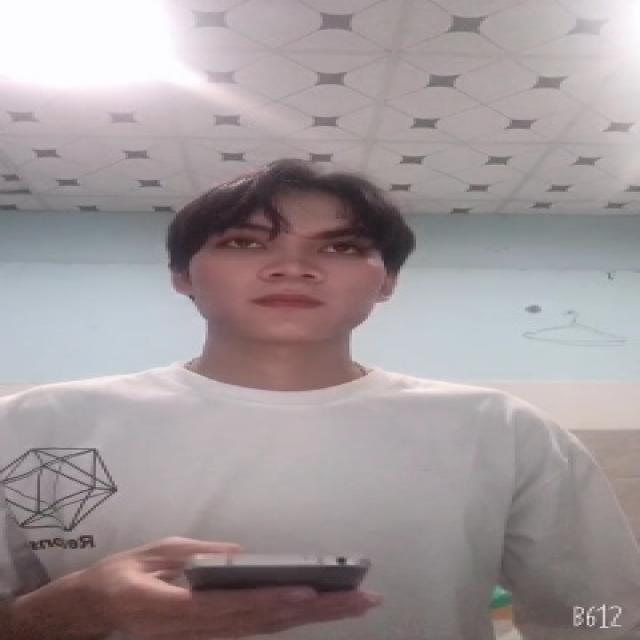Phone: (180, 547, 373, 596)
